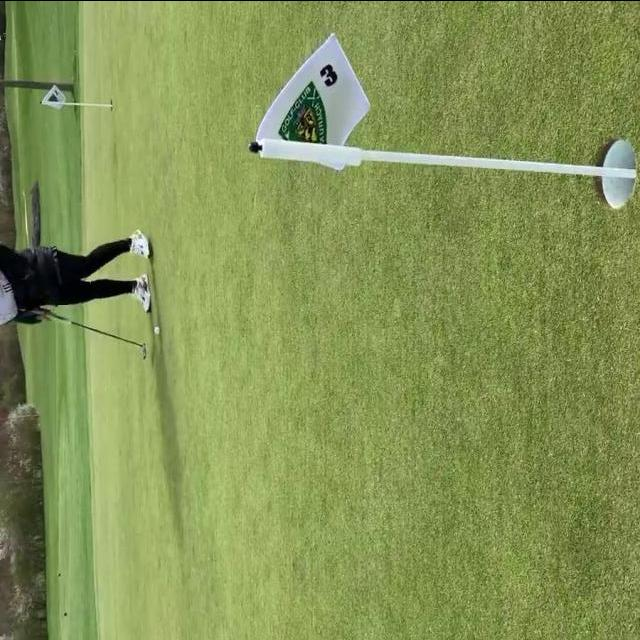golf ball: (154, 326, 160, 333)
golf club-handle: (34, 307, 147, 358)
golf club-head: (142, 342, 147, 358)
